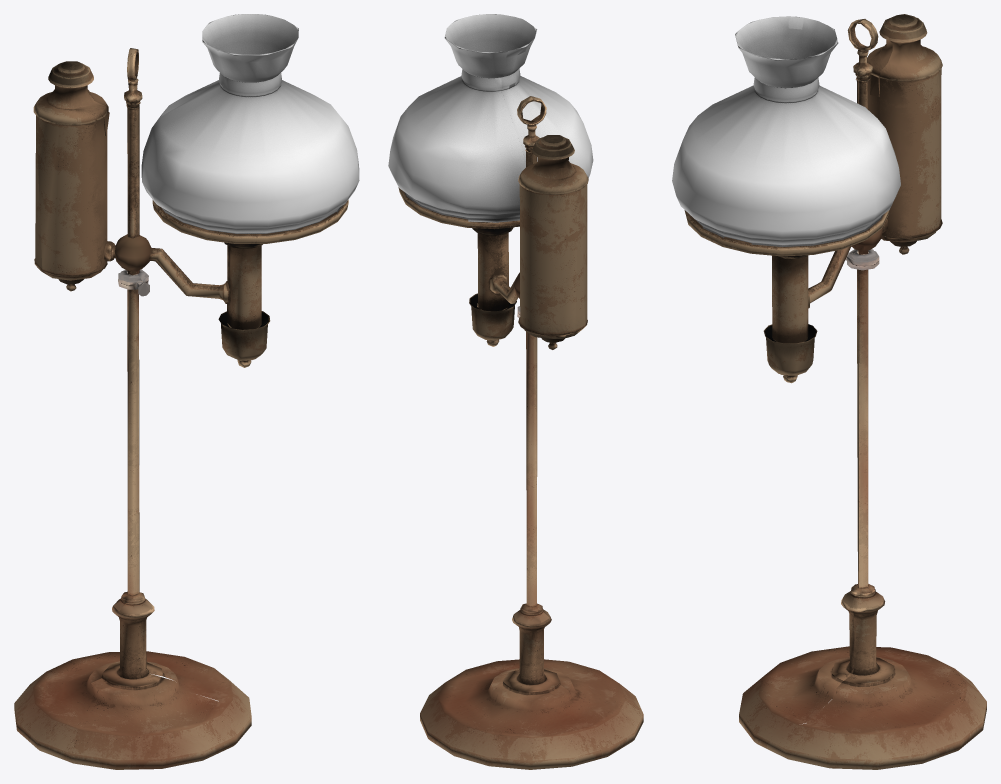
The model's file is oil_lamp.fbx.
The picture shows the model from 3 angles, left to right: view 1: azimuth 30°, elevation 25°; view 2: azimuth 150°, elevation 25°; view 3: azimuth 270°, elevation 25°; orthographic projection. The views are drawn at different scales.
Visible parts, largest first — view 1: oil_lamp; view 2: oil_lamp; view 3: oil_lamp.
Part boxes in pixels (box(x1,y1,x2,y2)): oil_lamp: box(14, 14, 359, 769); oil_lamp: box(388, 14, 643, 769); oil_lamp: box(672, 14, 986, 769).
Bounding box in the file's own units: 17.24 × 40.97 × 16.19.
Materials: 1 (1 with a texture image).
